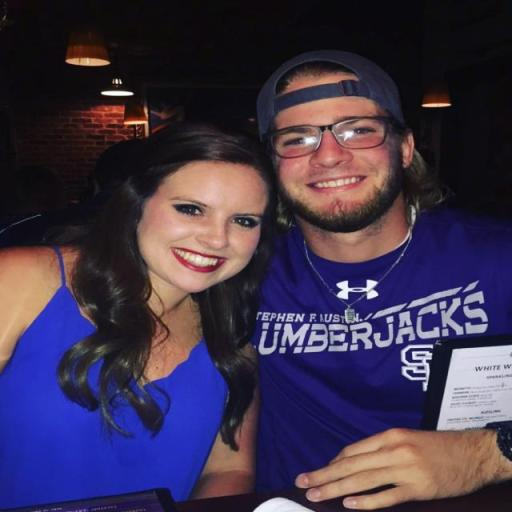Under Armour: (331, 277, 380, 304)
